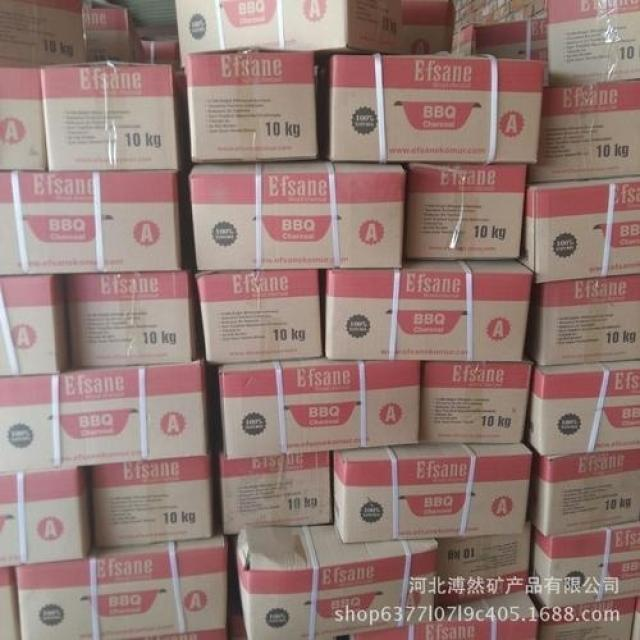box: (317, 54, 544, 164), (0, 360, 211, 475), (237, 524, 439, 640), (189, 163, 406, 270), (14, 534, 228, 639), (325, 260, 535, 362), (219, 357, 420, 458), (333, 443, 531, 543), (0, 170, 182, 275), (183, 46, 320, 164), (41, 60, 186, 170), (175, 0, 406, 67), (65, 269, 197, 370), (518, 175, 640, 284), (196, 268, 325, 365), (91, 448, 212, 548), (406, 163, 527, 261), (529, 79, 639, 182), (525, 360, 639, 457), (322, 591, 538, 639), (525, 274, 640, 364), (526, 449, 640, 538), (530, 520, 640, 609), (220, 451, 333, 536), (419, 361, 534, 444), (0, 468, 92, 567), (434, 521, 531, 611), (545, 0, 640, 87), (0, 276, 72, 376), (458, 18, 548, 83), (0, 67, 47, 170), (530, 595, 636, 640), (82, 1, 140, 63), (402, 1, 456, 55), (0, 567, 19, 639), (140, 38, 178, 67)
